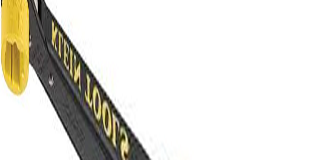Wrench: (1, 3, 156, 160)
